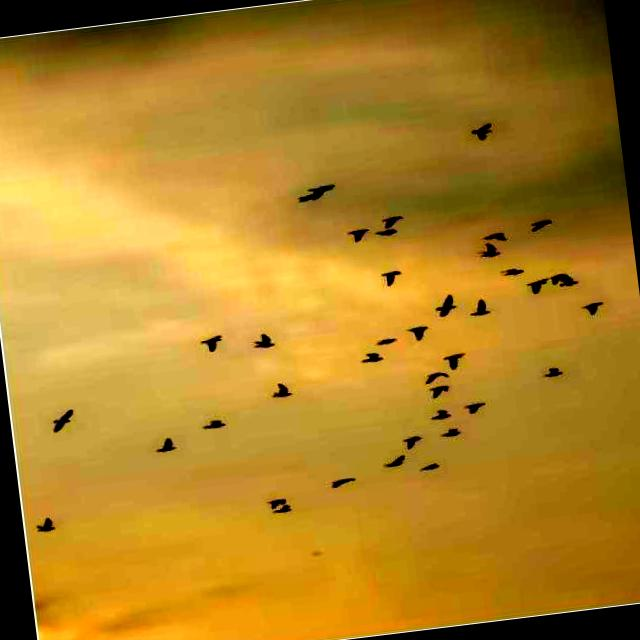bird: (291, 180, 345, 208), (459, 118, 504, 145), (428, 292, 466, 323), (46, 404, 80, 436), (324, 468, 362, 494), (265, 378, 304, 403), (32, 510, 63, 540), (375, 207, 417, 228), (464, 298, 504, 320), (412, 367, 455, 387), (442, 347, 481, 369), (144, 434, 182, 456), (578, 296, 612, 320), (191, 332, 226, 354), (523, 213, 557, 235), (418, 384, 456, 403), (270, 500, 306, 520), (402, 321, 436, 342), (196, 414, 231, 434), (358, 348, 388, 371), (465, 395, 495, 418), (344, 224, 375, 246), (374, 226, 408, 245), (442, 424, 468, 448), (248, 331, 275, 354), (540, 362, 570, 382), (482, 224, 512, 243), (478, 241, 502, 264), (379, 265, 404, 287), (500, 262, 530, 280), (401, 430, 426, 451), (374, 330, 398, 351), (384, 452, 411, 470), (262, 492, 291, 508), (550, 266, 578, 282), (524, 276, 548, 294), (420, 458, 449, 472), (428, 407, 454, 422), (558, 278, 584, 291)
